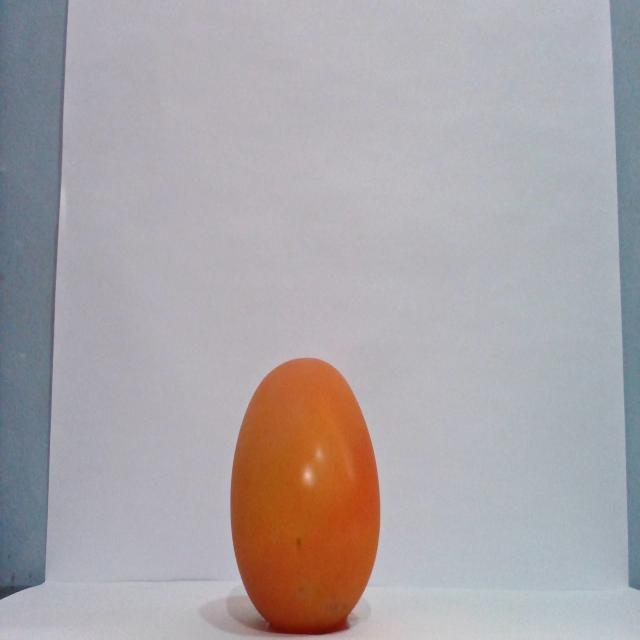Red: (228, 355, 381, 634)
